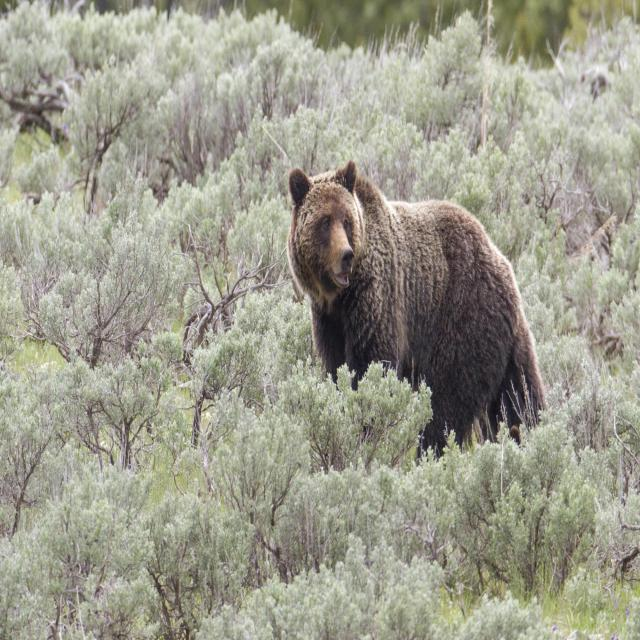Bear: (287, 164, 546, 463)
